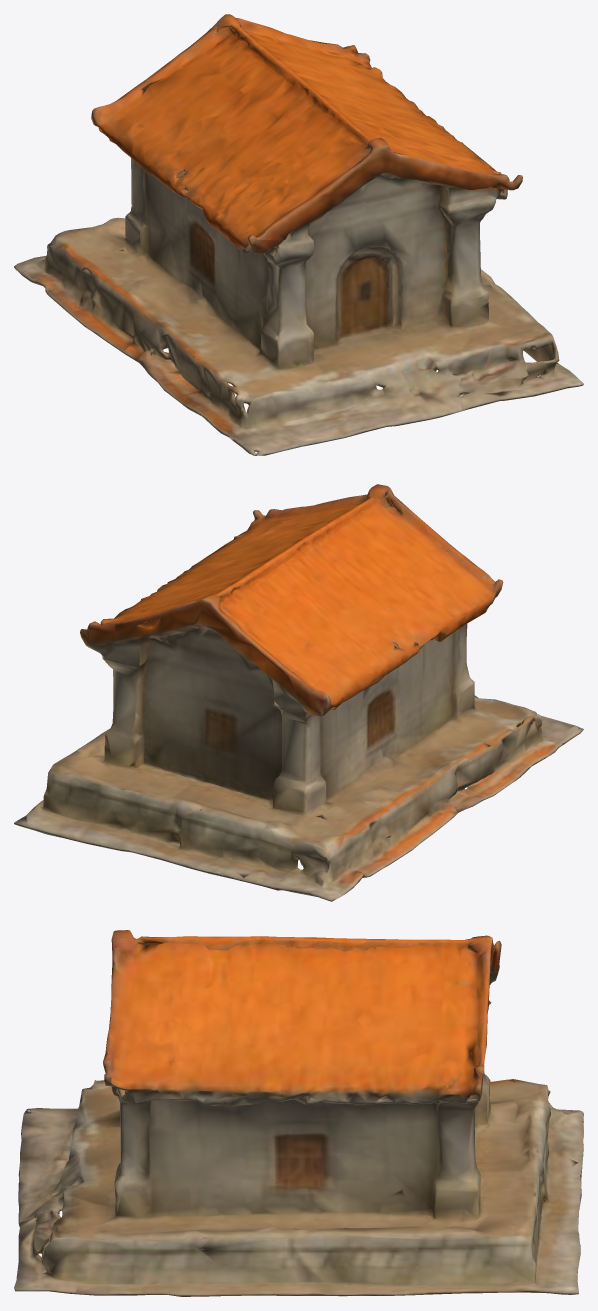
File: bld_herb.glb
The picture shows the model from 3 angles, top to bottom: view 1: azimuth 30°, elevation 25°; view 2: azimuth 150°, elevation 25°; view 3: azimuth 270°, elevation 25°; orthographic projection. The views are drawn at different scales.
Visible parts, largest first — view 1: Mesh1_Mesh1.088_Material.001_0; view 2: Mesh1_Mesh1.088_Material.001_0; view 3: Mesh1_Mesh1.088_Material.001_0.
Part boxes in pixels (left/top/right/bottom): Mesh1_Mesh1.088_Material.001_0: left=14, top=14, right=583, bottom=455; Mesh1_Mesh1.088_Material.001_0: left=14, top=484, right=583, bottom=901; Mesh1_Mesh1.088_Material.001_0: left=14, top=930, right=583, bottom=1296.
Size of the model in its own units: 1.54 by 1.07 by 1.99.
1 material, 1 textured.
